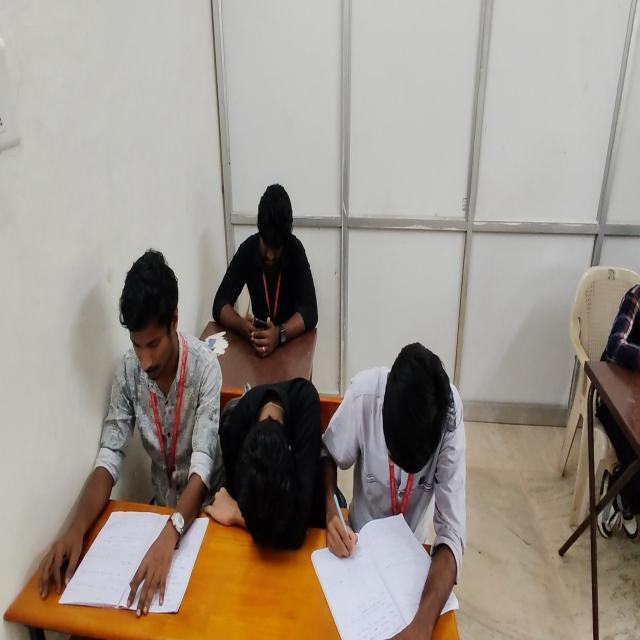reading: (38, 251, 225, 622), (319, 342, 463, 640)
sleeping: (207, 373, 332, 557)
using_mobile: (212, 183, 319, 356)
